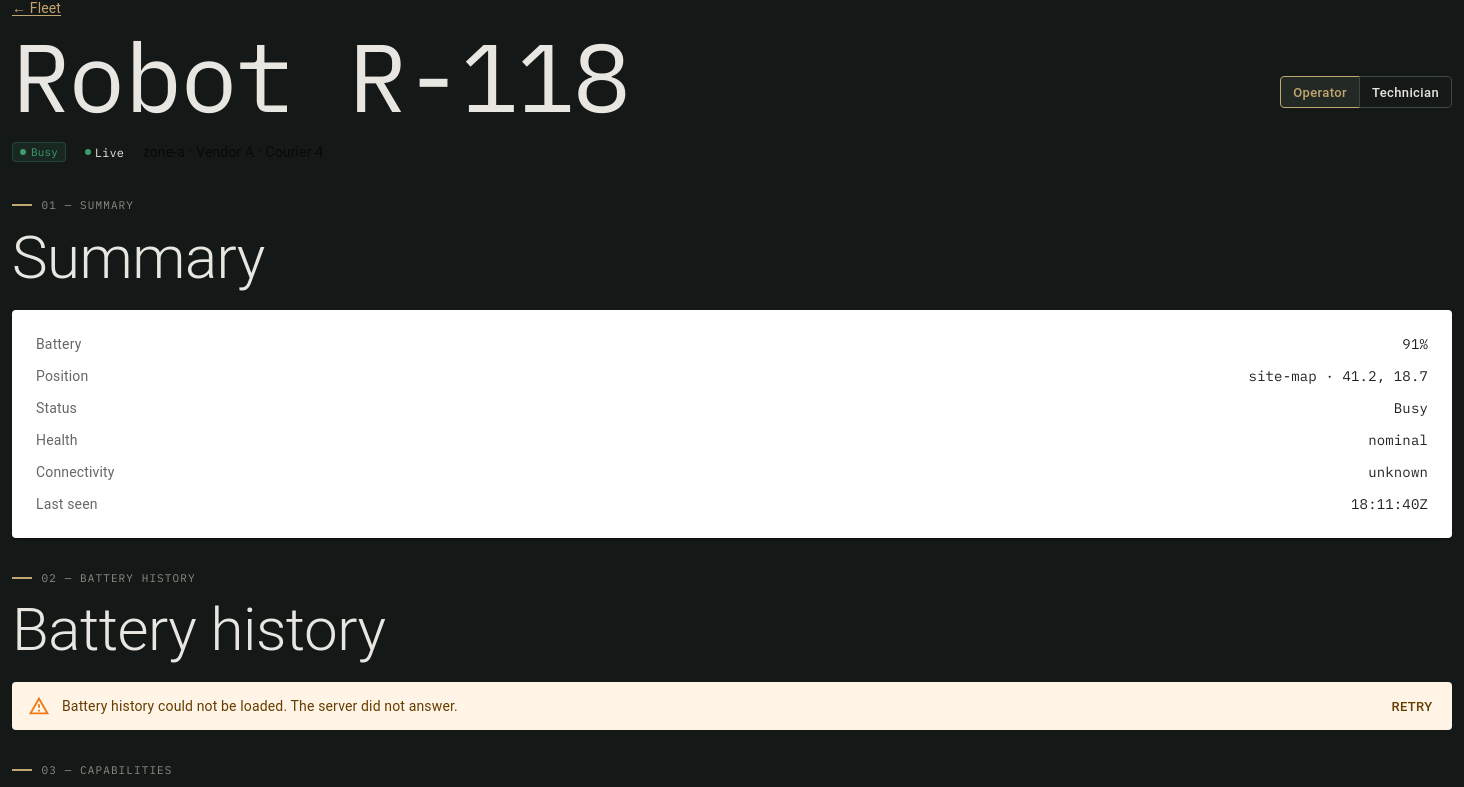
Test case: RobotDetailPage › keeps the page standing when the history request fails, with an inline retry
Expected: the heading "Robot R-118" is shown, x1=12 y1=20 x2=629 y2=132
Expected: the element "Summary" is shown, x1=12 y1=197 x2=1452 y2=538
Click the button "Retry" at (1412, 708), box x1=1380 y1=692 x2=1444 y2=723
(page scrolled)
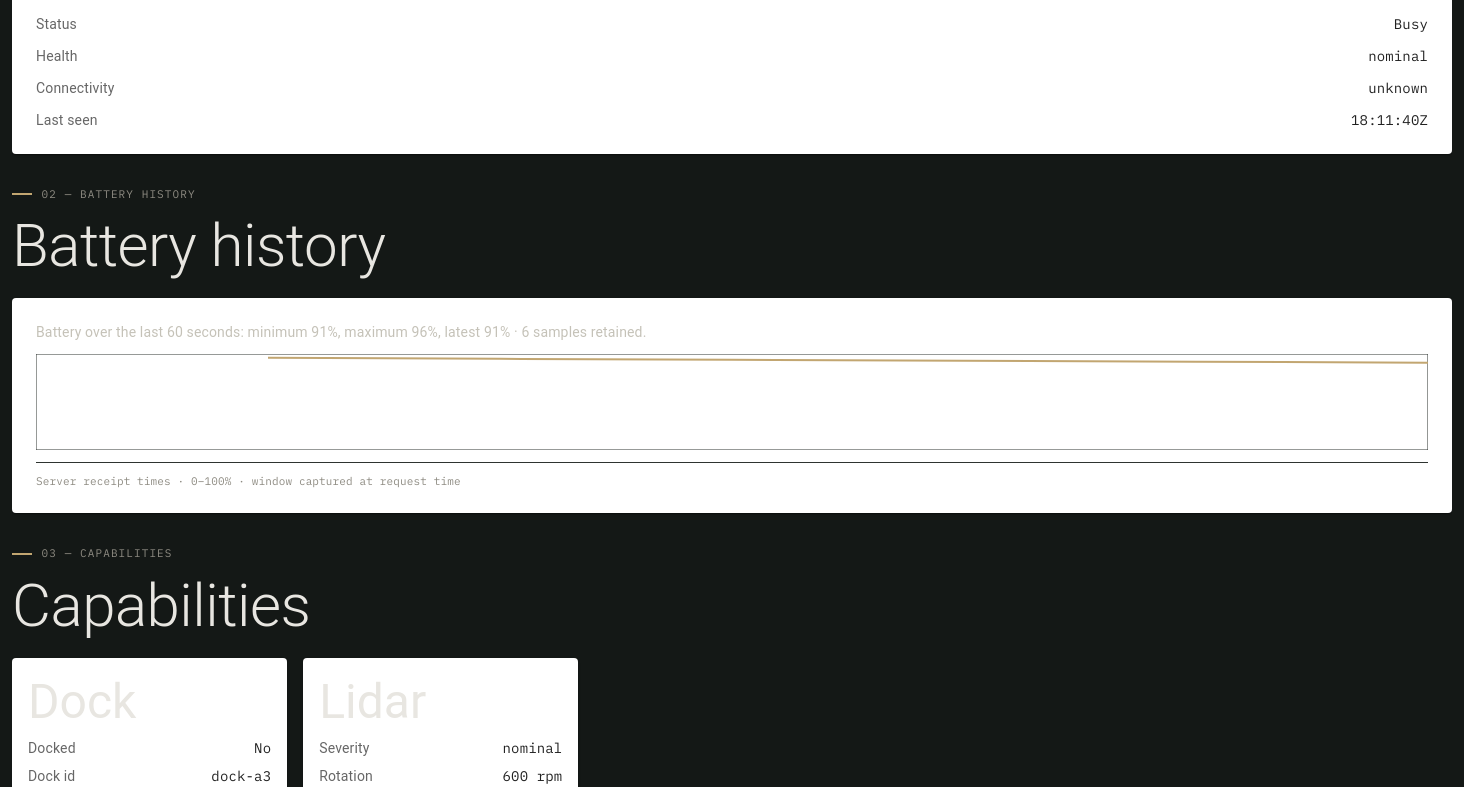
Now the picture named "battery history for R-118" is shown, box x1=36 y1=354 x2=1428 y2=450
